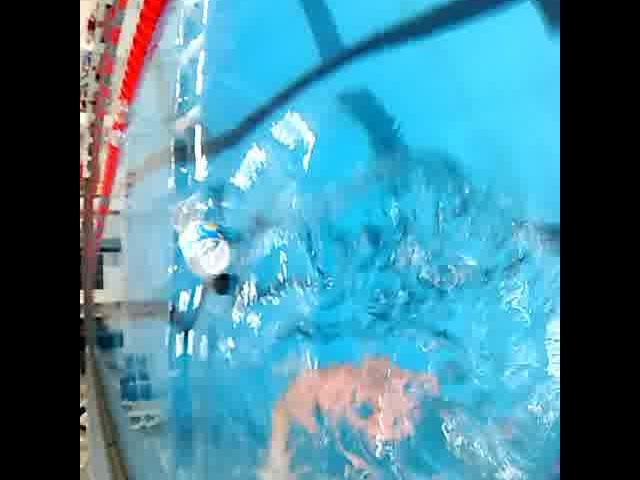Bottle: (166, 184, 242, 304)
